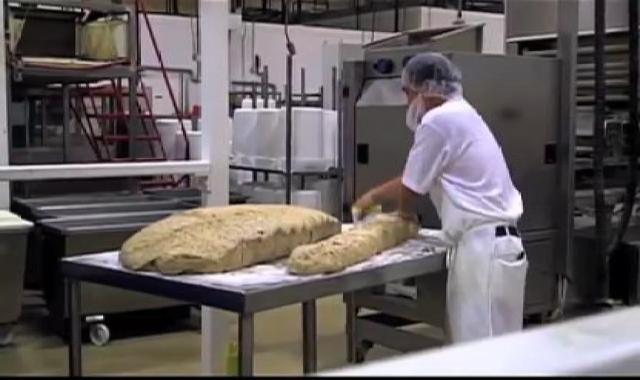hairnet: (395, 48, 474, 103)
